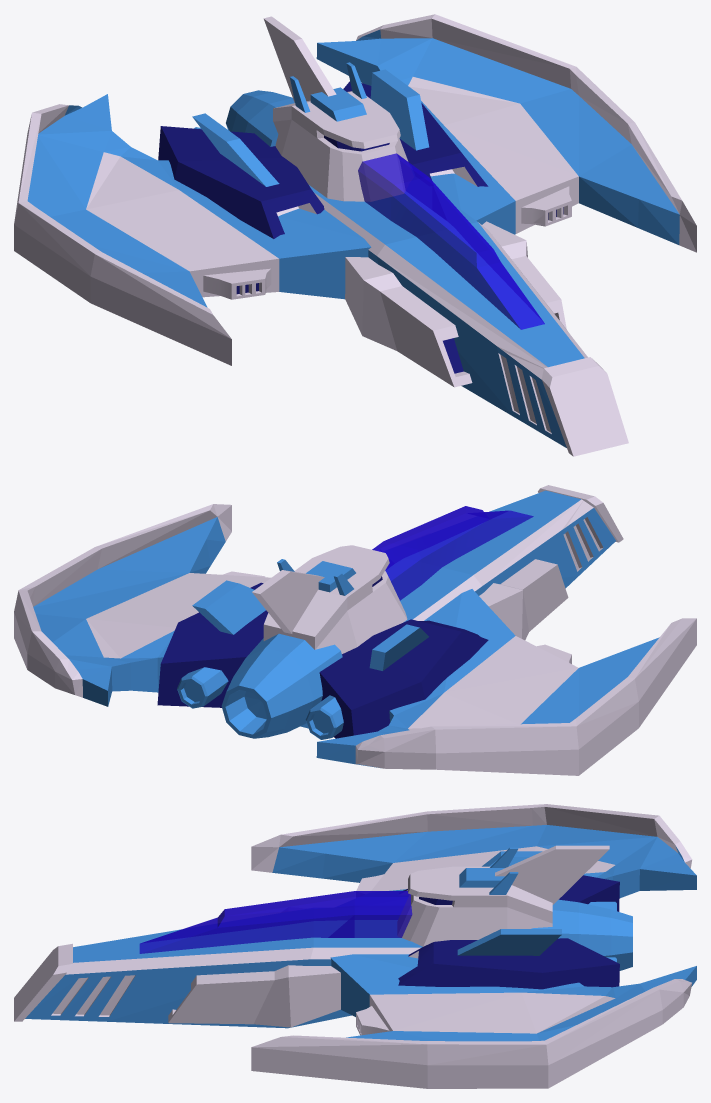
The picture shows the model from 3 angles, top to bottom: view 1: azimuth 30°, elevation 25°; view 2: azimuth 150°, elevation 25°; view 3: azimuth 270°, elevation 25°; orthographic projection. The views are drawn at different scales.
Visible parts, largest first — view 1: pCube9 (×2), pCube1, pCube10 (×2), pCube2, pCube3, pCube16, pasted__pCube1, pCube11 (×2), pCube12 (×2), pCube15, pCylinder1, pCube13 (+1 smaller); view 2: pCube9 (×2), pCube10 (×2), pCube1, pCylinder1, pCube3, pCube2, pCube16, pCube11 (×2), pCube15, pCylinder2, pCylinder3, pasted__pCube1 (+1 smaller); view 3: pCube9 (×2), pCube1, pCube2, pCube10 (×2), pCube13, pCube3, pCylinder1, pCube15, pCube11, pasted__pCube1, pCube8, pCube12.
Part boxes in pixels (bbox=[...]): pCube9 (×2): bbox=[14, 14, 696, 365]; pCube1: bbox=[309, 185, 587, 447]; pCube10 (×2): bbox=[158, 81, 488, 238]; pCube2: bbox=[358, 153, 544, 329]; pCube3: bbox=[273, 91, 408, 201]; pCube16: bbox=[345, 257, 472, 387]; pasted__pCube1: bbox=[541, 357, 628, 456]; pCube11 (×2): bbox=[192, 69, 429, 186]; pCube12 (×2): bbox=[203, 186, 571, 299]; pCube15: bbox=[263, 16, 336, 102]; pCylinder1: bbox=[226, 90, 294, 146]; pCube13: bbox=[482, 221, 566, 329]; pCube9 (×2): bbox=[14, 504, 696, 775]; pCube10 (×2): bbox=[157, 582, 488, 738]; pCube1: bbox=[300, 490, 615, 728]; pCylinder1: bbox=[221, 633, 342, 738]; pCube3: bbox=[263, 545, 407, 653]; pCube2: bbox=[372, 506, 533, 600]; pCube16: bbox=[479, 559, 568, 640]; pCube11 (×2): bbox=[192, 580, 428, 670]; pCube15: bbox=[252, 570, 324, 633]; pCylinder2: bbox=[177, 667, 228, 708]; pCylinder3: bbox=[305, 695, 343, 739]; pasted__pCube1: bbox=[538, 485, 623, 542]; pCube9 (×2): bbox=[251, 804, 696, 1088]; pCube1: bbox=[25, 920, 422, 1028]; pCube2: bbox=[139, 891, 412, 953]; pCube10 (×2): bbox=[398, 875, 619, 989]; pCube13: bbox=[168, 965, 340, 1027]; pCube3: bbox=[397, 866, 552, 946]; pCylinder1: bbox=[531, 899, 632, 970]; pCube15: bbox=[495, 845, 609, 904]; pCube11: bbox=[457, 929, 561, 955]; pasted__pCube1: bbox=[14, 943, 72, 1021]; pCube8: bbox=[459, 868, 504, 887]; pCube12: bbox=[356, 1006, 389, 1035].
Size of the model in its own units: 30.85 by 9.66 by 36.54.
